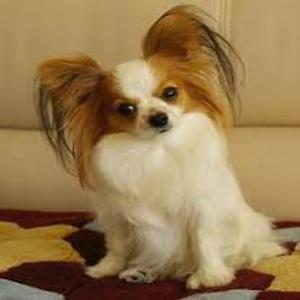yell: (32, 6, 287, 289)
